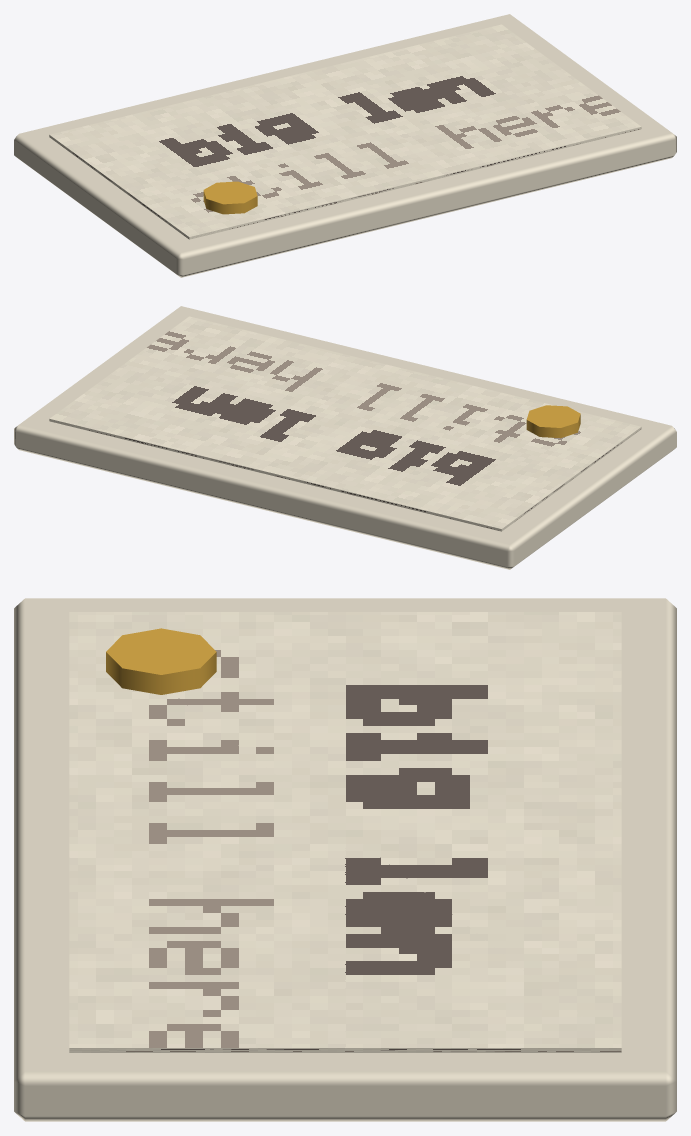
File: s_longplaque_b.glb
3 views of the same model, one above another, from view 1: azimuth 30°, elevation 25°; view 2: azimuth 150°, elevation 25°; view 3: azimuth 270°, elevation 25° (orthographic). The views are drawn at different scales.
Parts seen in each view (by area): view 1: s_longplaque_b_mesh; view 2: s_longplaque_b_mesh; view 3: s_longplaque_b_mesh.
Boxes of the visible parts, bbox=[...] form: s_longplaque_b_mesh: bbox=[14, 14, 676, 277]; s_longplaque_b_mesh: bbox=[14, 306, 676, 569]; s_longplaque_b_mesh: bbox=[14, 598, 676, 1121].
Size of what is drawn, in the model's own units: 0.62 by 0.0465 by 0.36.
Materials: 3 (3 with a texture image).
